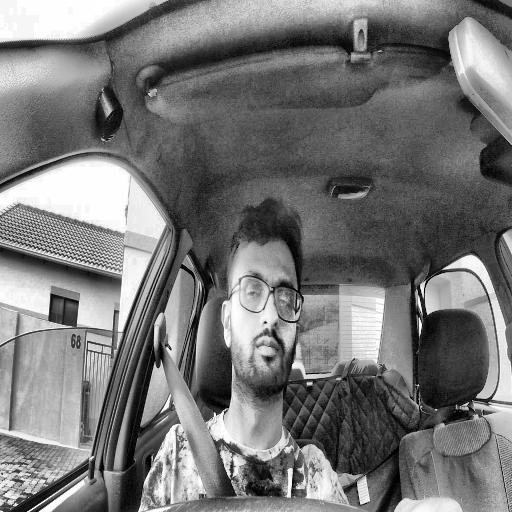drowsy: (221, 196, 304, 402)
